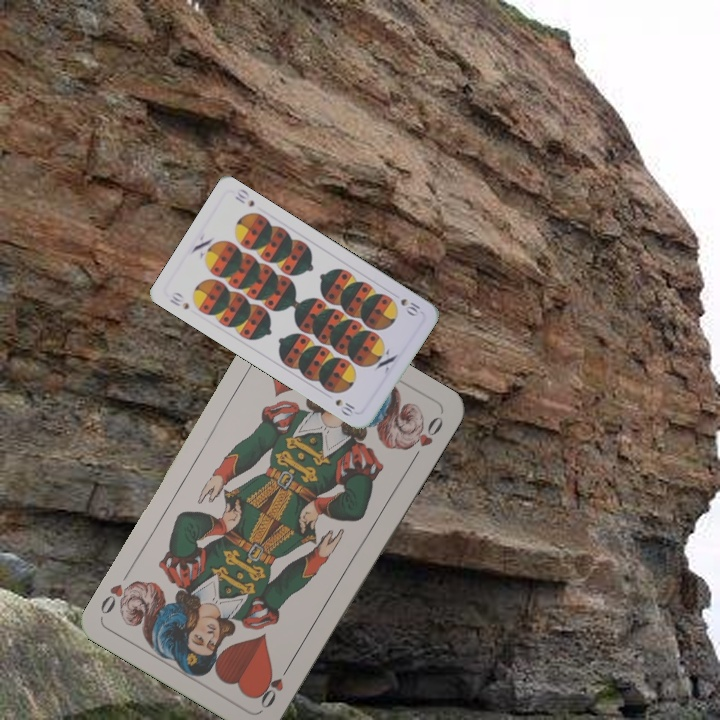HO: (256, 659, 294, 712)
S10: (396, 294, 424, 319), (166, 288, 192, 312)
